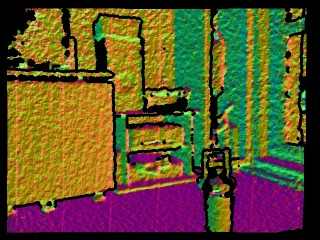station: (197, 148, 237, 190)
